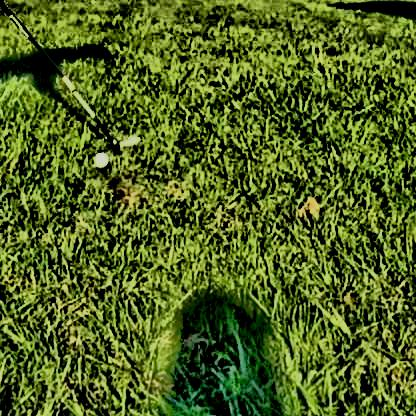golfball: (91, 148, 106, 167)
